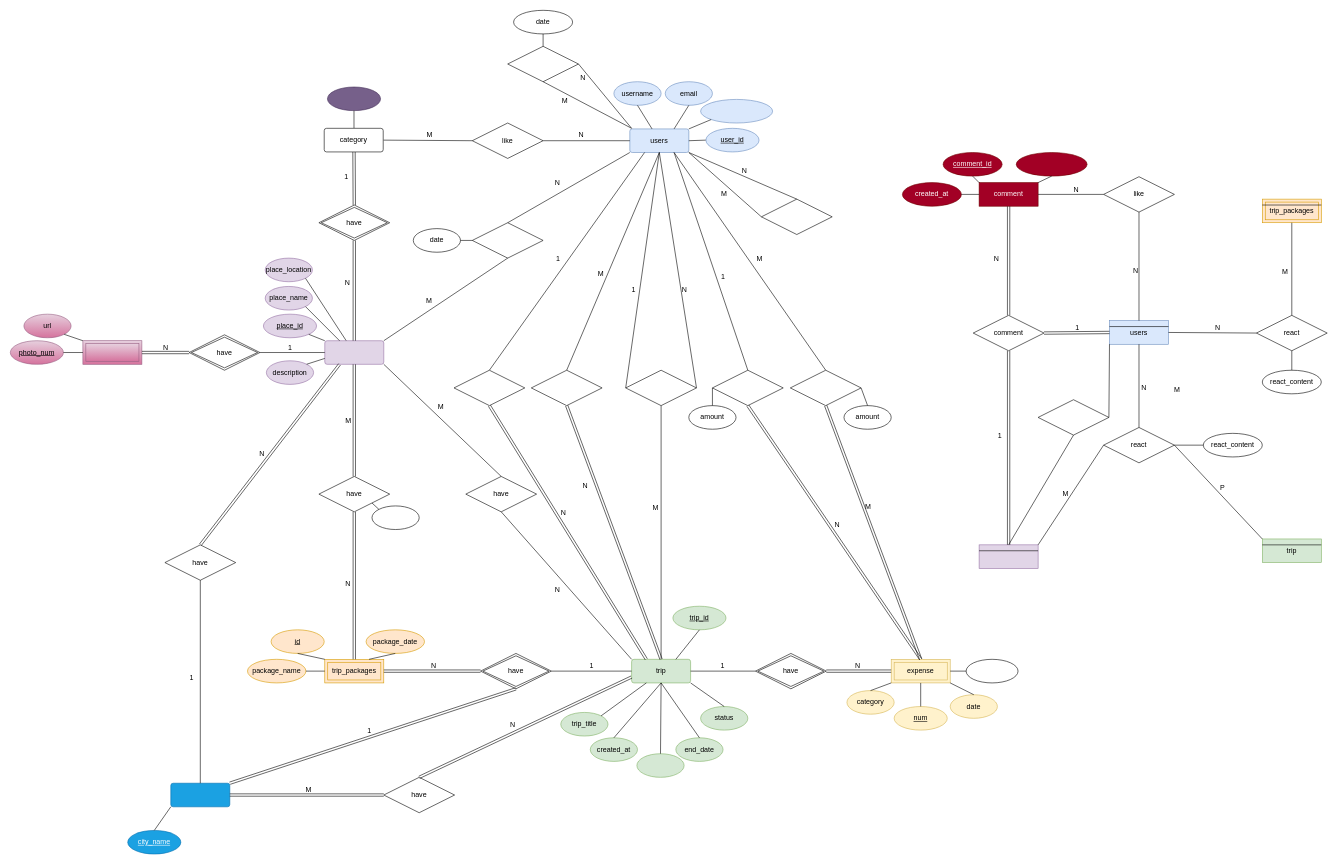
Some shapes in this 1338 by 864 pixel diagram are drawn without their labels. Here are the shapes that lost their labels. From the top down, the centre of each, then its label:
point (542, 64): request
point (354, 98): category_name
point (736, 111): user_password
point (1051, 164): coment_content
point (796, 217): friend
point (507, 240): add_to_wishlist
point (112, 352): photos
point (354, 352): places
point (489, 388): create
point (566, 388): member
point (660, 388): Invite
point (747, 388): pay
point (825, 388): expense_shares
point (1073, 417): likes
point (395, 517): preference
point (1008, 556): place
point (992, 671): discription
point (660, 765): start_date
point (200, 795): city
